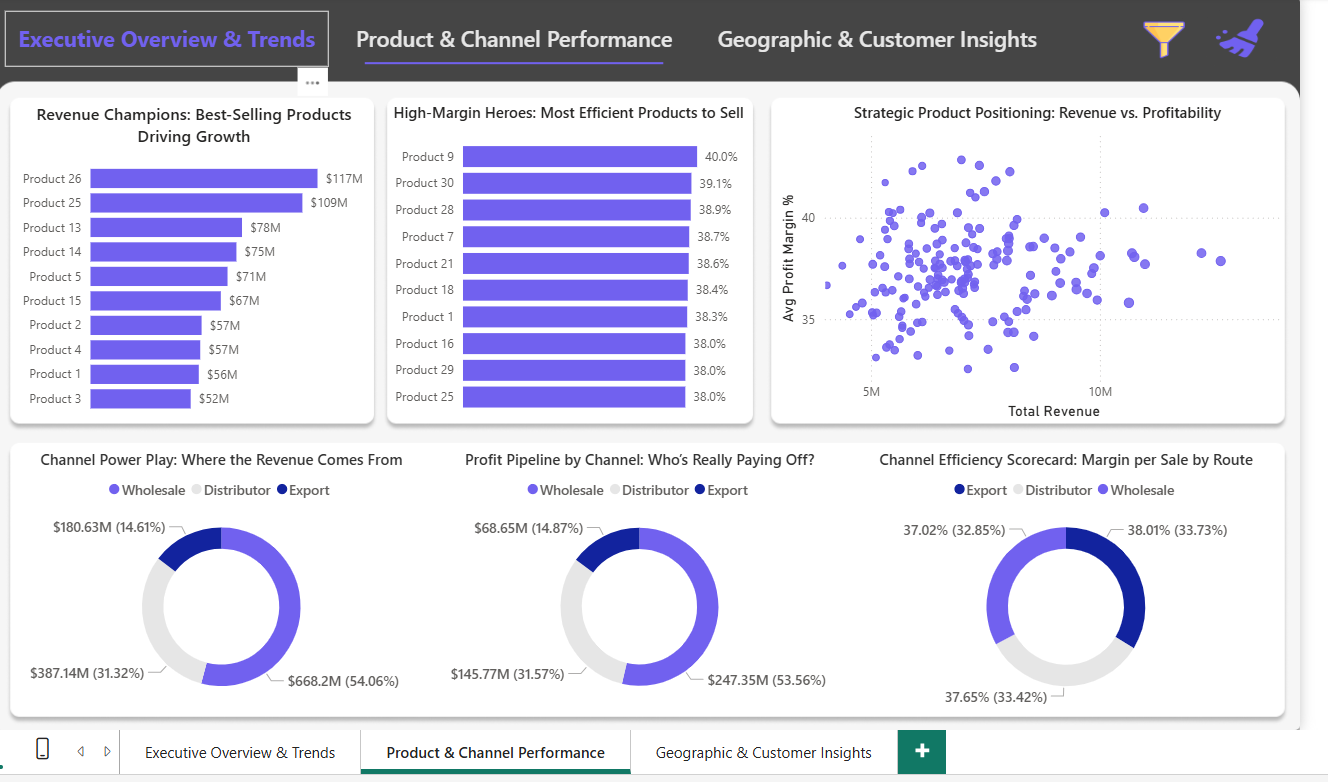

The dashboard page shown, as its layout file describes it:
{"tool":"powerbi","page":{"name":"Product & Channel Performance","canvas":[1280,720],"ordinal":1},"visuals":[{"type":"barChart","title":"Revenue Champions: Best-Selling Products Driving Growth","fields":{"Category":["Sales_data.product_name"],"Y":["Measures_.Total Revenue"]},"box":[16,103,357,316],"z":0},{"type":"scatterChart","title":"Strategic Product Positioning: Revenue vs. Profitability","fields":{"X":["Customer Summary.Total Revenue"],"Y":["Customer Summary.Avg Profit Margin %"],"Size":["Sum(Customer Summary.Order Count)"]},"box":[764,103,516,317],"z":1000},{"type":"barChart","title":"High-Margin Heroes: Most Efficient Products to Sell","fields":{"Category":["Sales_data.product_name"],"Y":["Measures_.Profit Margin %"]},"box":[382,103,361,316],"z":2000},{"type":"donutChart","title":"Channel Power Play: Where the Revenue Comes From","fields":{"Category":["Sales_data.channel"],"Y":["Measures_.Total Revenue"]},"box":[16.7,443.3,408.3,261.7],"z":3000},{"type":"donutChart","title":"Profit Pipeline by Channel: Who’s Really Paying Off?","fields":{"Category":["Sales_data.channel"],"Y":["Measures_.Total Profit"]},"box":[436.7,443.3,390,261.7],"z":4000},{"type":"donutChart","title":"Channel Efficiency Scorecard: Margin per Sale by Route","fields":{"Category":["Sales_data.channel"],"Y":["Measures_.Profit Margin %"]},"box":[843.3,443.3,415,261.7],"z":5000},{"type":"actionButton","box":[337.2,14.1,342.3,55.1],"z":6000},{"type":"actionButton","box":[9,14.1,317.9,55.1],"z":7000},{"type":"actionButton","box":[695,13.8,341.2,55],"z":8000},{"type":"actionButton","box":[1188,14,70,55],"z":9000},{"type":"actionButton","box":[1120,21,53,42],"z":10000}]}

Visuals, with their boxes on the page's 1280x720 design canvas (x1, y1, x2, y2). These are canvas units, not pixel positions in the 1328x782 screenshot, which may show the page scaled, cropped or inside an application window:
"Revenue Champions: Best-Selling Products Driving Growth" barChart: l=16, t=103, r=373, b=419
"Strategic Product Positioning: Revenue vs. Profitability" scatterChart: l=764, t=103, r=1280, b=420
"High-Margin Heroes: Most Efficient Products to Sell" barChart: l=382, t=103, r=743, b=419
"Channel Power Play: Where the Revenue Comes From" donutChart: l=17, t=443, r=425, b=705
"Profit Pipeline by Channel: Who’s Really Paying Off?" donutChart: l=437, t=443, r=827, b=705
"Channel Efficiency Scorecard: Margin per Sale by Route" donutChart: l=843, t=443, r=1258, b=705
actionButton: l=337, t=14, r=680, b=69
actionButton: l=9, t=14, r=327, b=69
actionButton: l=695, t=14, r=1036, b=69
actionButton: l=1188, t=14, r=1258, b=69
actionButton: l=1120, t=21, r=1173, b=63
